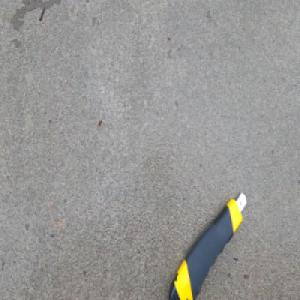Cutter: (165, 190, 247, 300)
